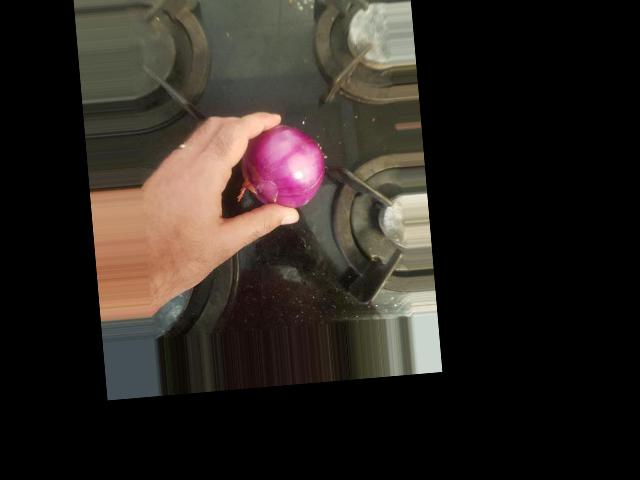onion: (273, 50, 371, 137)
